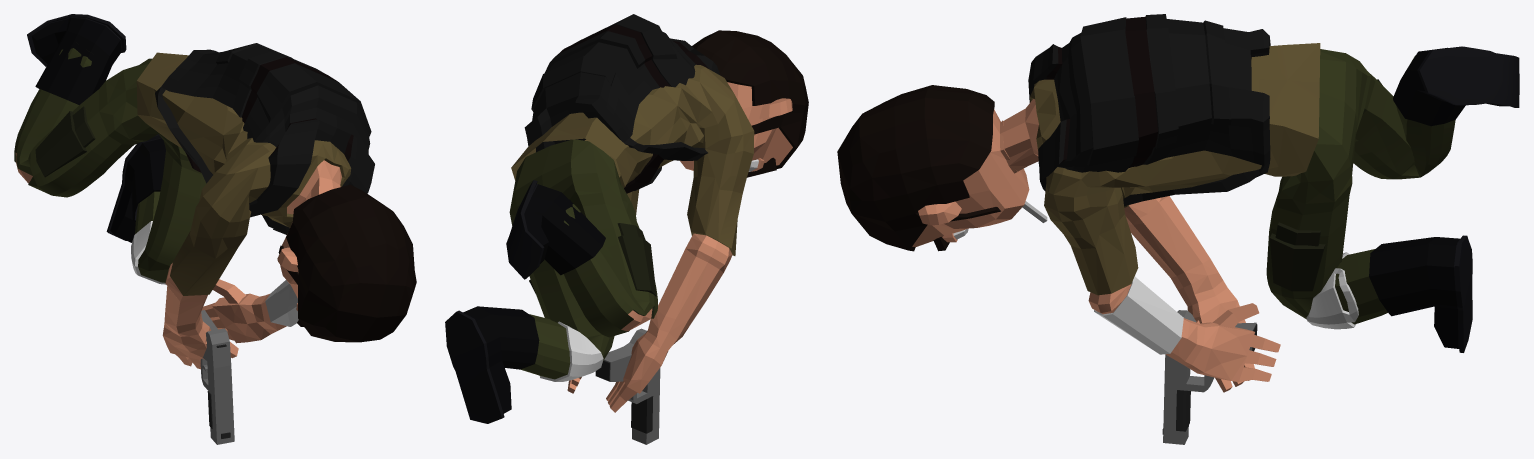
The model's file is frame_0053.obj.
3 renders of one model, left to right at view 1: azimuth 30°, elevation 25°; view 2: azimuth 150°, elevation 25°; view 3: azimuth 270°, elevation 25°, orthographic. The views are drawn at different scales.
Parts seen in each view (by area): view 1: Body, Gun; view 2: Body, Gun; view 3: Body, Gun.
Boxes of the visible parts, x1=… form: Body: x1=14, y1=14, x2=416, y2=369; Gun: x1=200, y1=310, x2=234, y2=444; Body: x1=445, y1=14, x2=808, y2=423; Gun: x1=595, y1=328, x2=660, y2=444; Body: x1=837, y1=14, x2=1519, y2=392; Gun: x1=1162, y1=310, x2=1257, y2=444.
Bounding box in the file's own units: 1.43 × 2.41 × 3.39.
